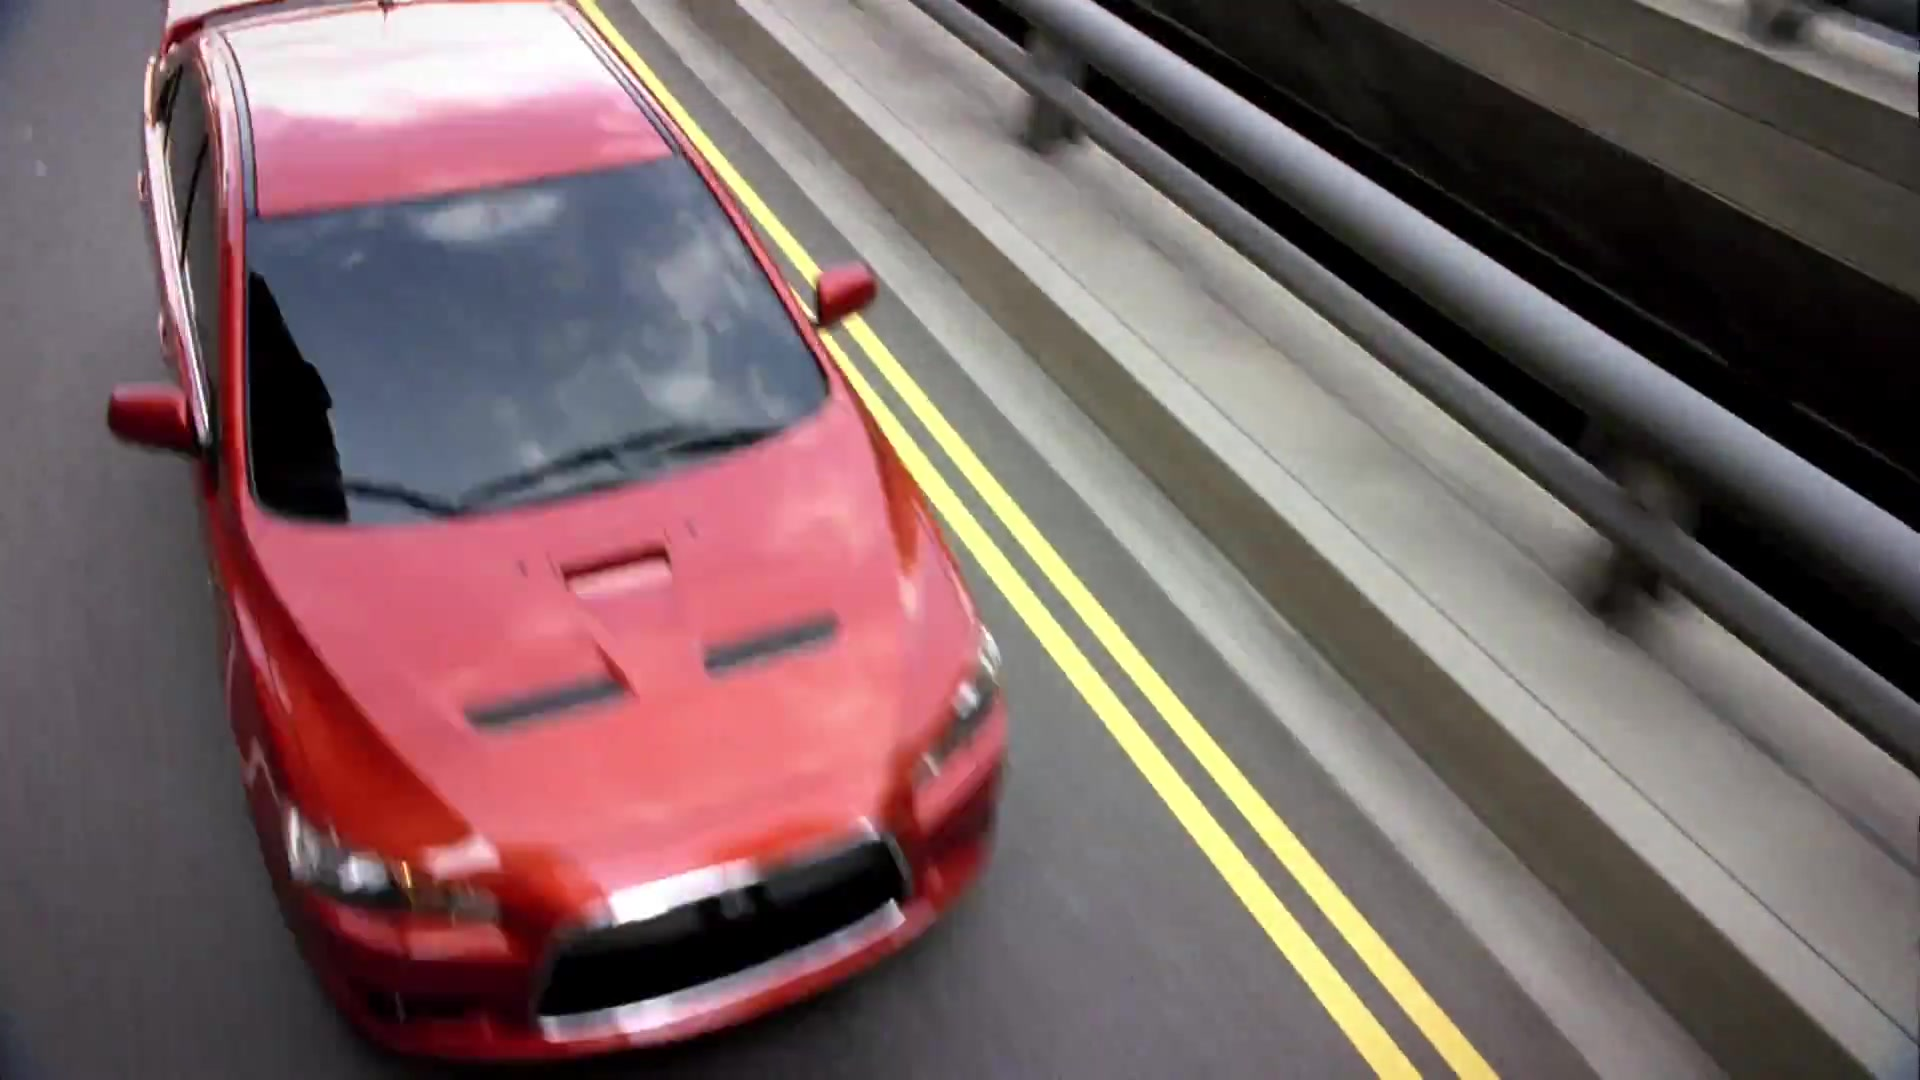car: (105, 1, 1015, 1076)
